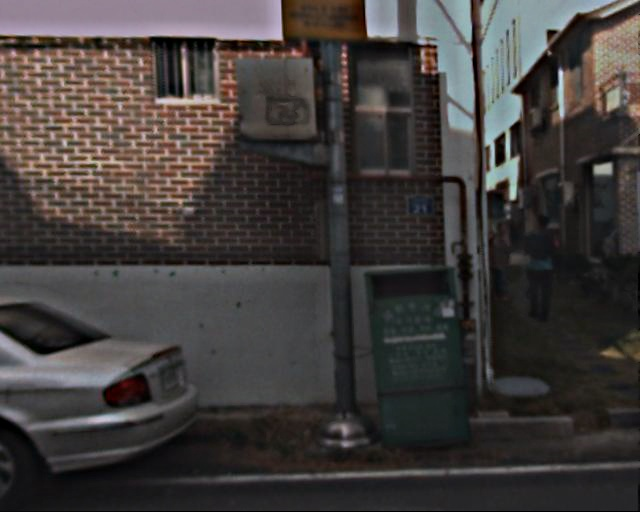person: (508, 212, 563, 325), (476, 221, 518, 306)
